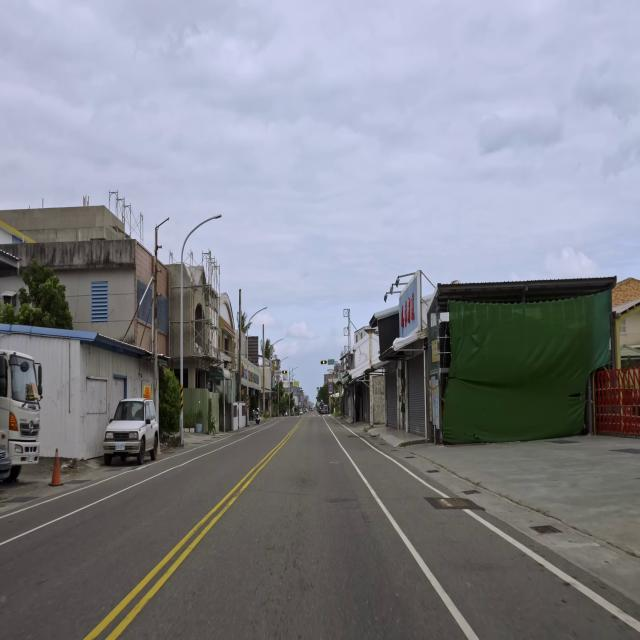yellow light: (320, 360, 327, 364), (282, 370, 287, 374)
